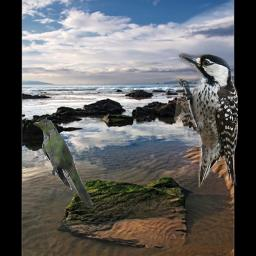Cuckoo: (33, 119, 96, 208)
Woodpecker: (173, 53, 238, 188)
